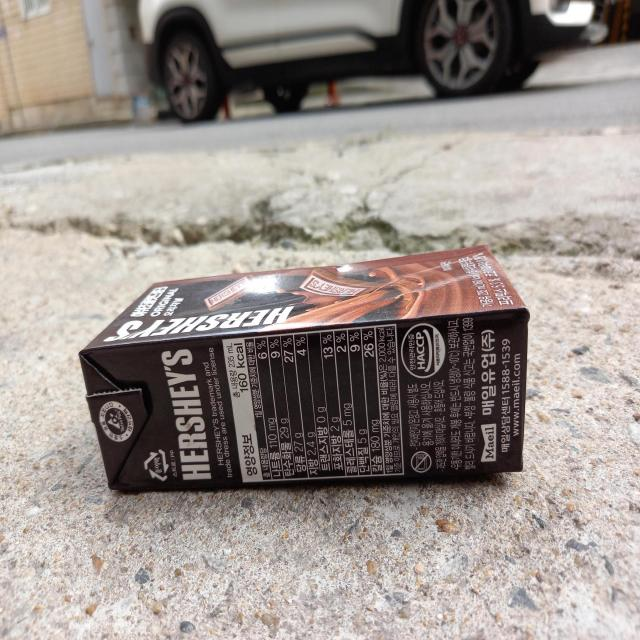paperpack: (79, 245, 530, 491)
